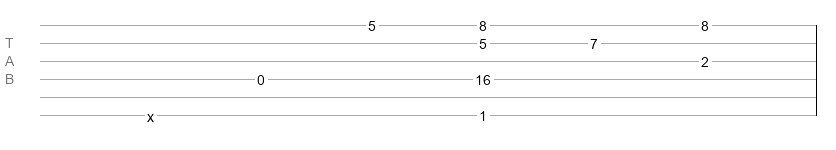0: (257, 72, 265, 82)
1: (479, 108, 487, 118)
16: (475, 72, 491, 82)
2: (701, 54, 709, 64)
5: (368, 18, 376, 28), (479, 36, 487, 46)
7: (590, 36, 598, 46)
8: (479, 18, 487, 28), (701, 18, 709, 28)
x: (147, 109, 154, 117)
